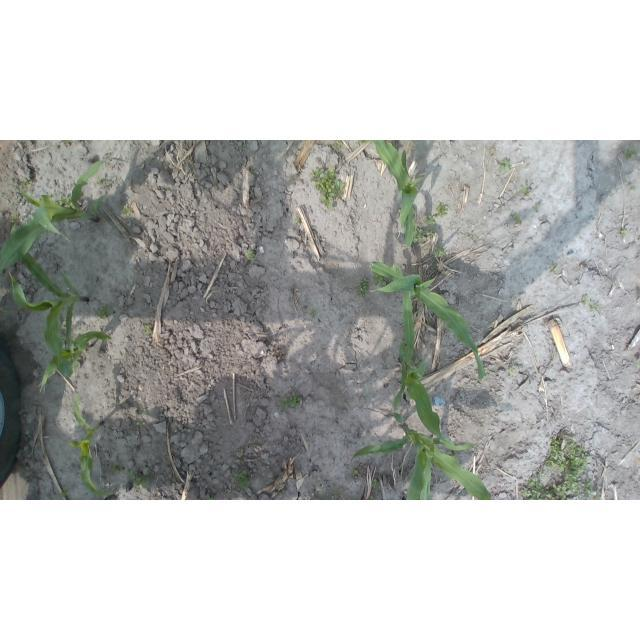Maize: (0, 157, 124, 273), (371, 260, 486, 381), (392, 291, 477, 451), (349, 412, 491, 500), (0, 222, 88, 357), (368, 140, 420, 246), (70, 394, 113, 500), (39, 330, 111, 393)
Weeds: (547, 436, 590, 501), (310, 166, 345, 212), (519, 477, 555, 500), (130, 471, 155, 489), (280, 391, 303, 409), (583, 483, 602, 500), (55, 195, 75, 210), (236, 469, 251, 488), (424, 216, 436, 237), (372, 271, 387, 287), (413, 227, 427, 243), (98, 302, 112, 318), (356, 280, 369, 297), (498, 159, 512, 173), (435, 203, 449, 217), (434, 246, 447, 258), (96, 176, 108, 189), (623, 148, 637, 159), (20, 176, 32, 188), (521, 184, 532, 197), (245, 248, 256, 260), (511, 212, 521, 225), (110, 463, 122, 473), (538, 465, 547, 478), (122, 206, 132, 217), (410, 358, 421, 368), (581, 293, 590, 305), (59, 487, 69, 497), (589, 301, 599, 311), (372, 479, 381, 489), (349, 468, 359, 477), (332, 140, 342, 149), (143, 325, 151, 336), (203, 494, 216, 500), (136, 420, 145, 428), (508, 365, 517, 373), (532, 204, 540, 212), (620, 228, 628, 236), (629, 185, 637, 192), (309, 309, 317, 316), (552, 266, 559, 273), (295, 216, 300, 225), (141, 404, 146, 411), (355, 141, 366, 144), (636, 359, 640, 367), (63, 141, 73, 144), (168, 482, 173, 487), (370, 496, 376, 500), (290, 173, 294, 179)
